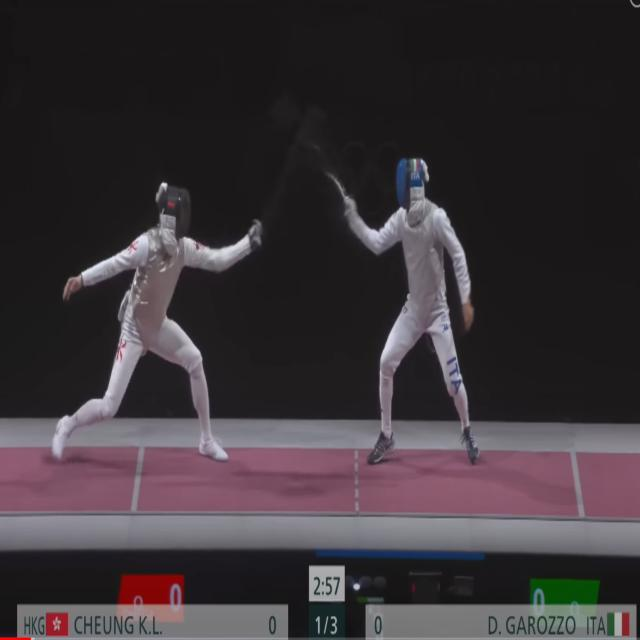fencer: (48, 187, 254, 480), (338, 150, 482, 470)
overlayLeft: (18, 605, 246, 638)
overlayRight: (404, 605, 638, 640)
scoreLeft: (247, 604, 284, 638)
scoreRight: (367, 604, 403, 639)
